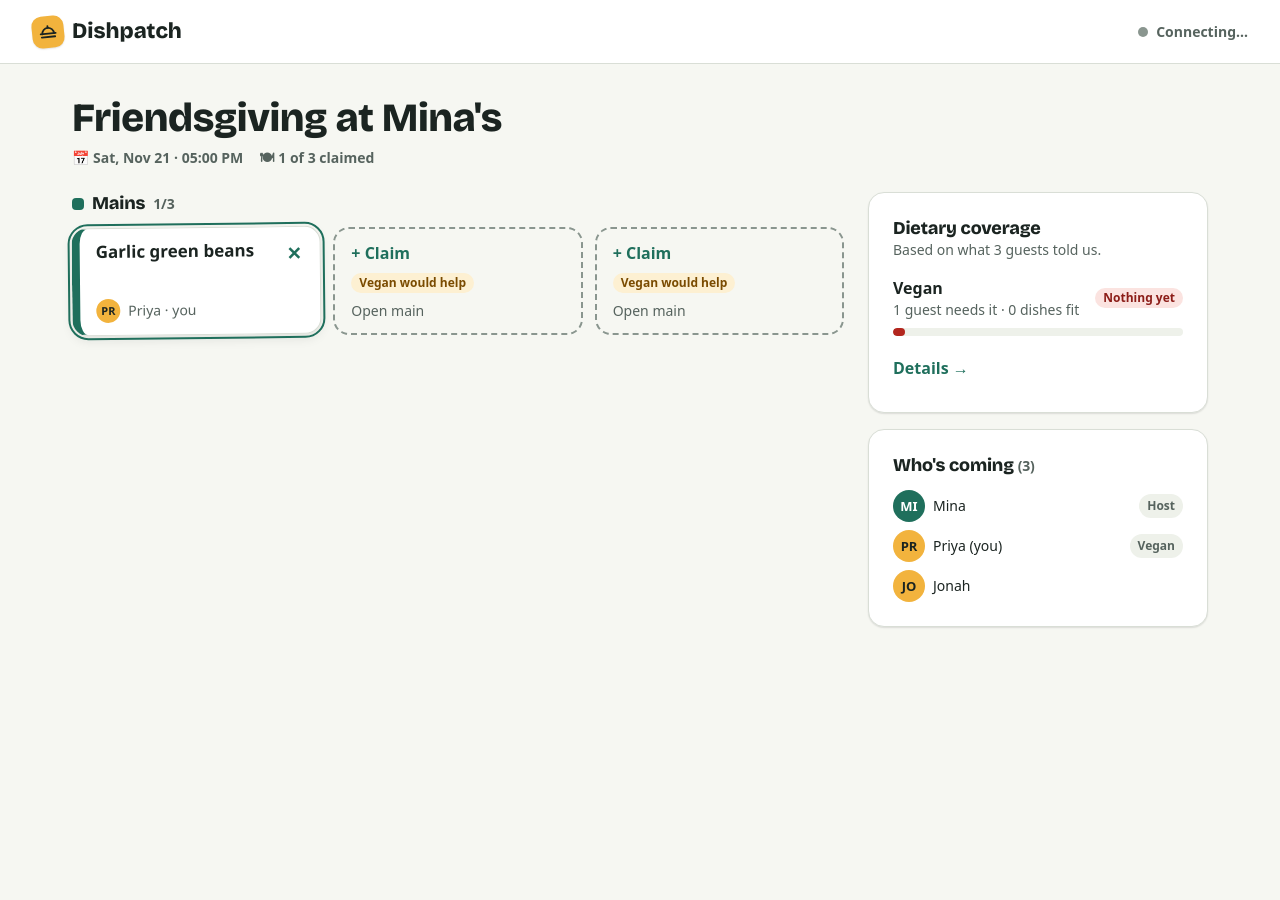
Test: release › asks before releasing, then opens the slot
What coordinates should you click on to do the following:
click the button named "Release your Mains slot"
I would click on:
 (294, 253)
Its box is x1=274 y1=233 x2=314 y2=274.
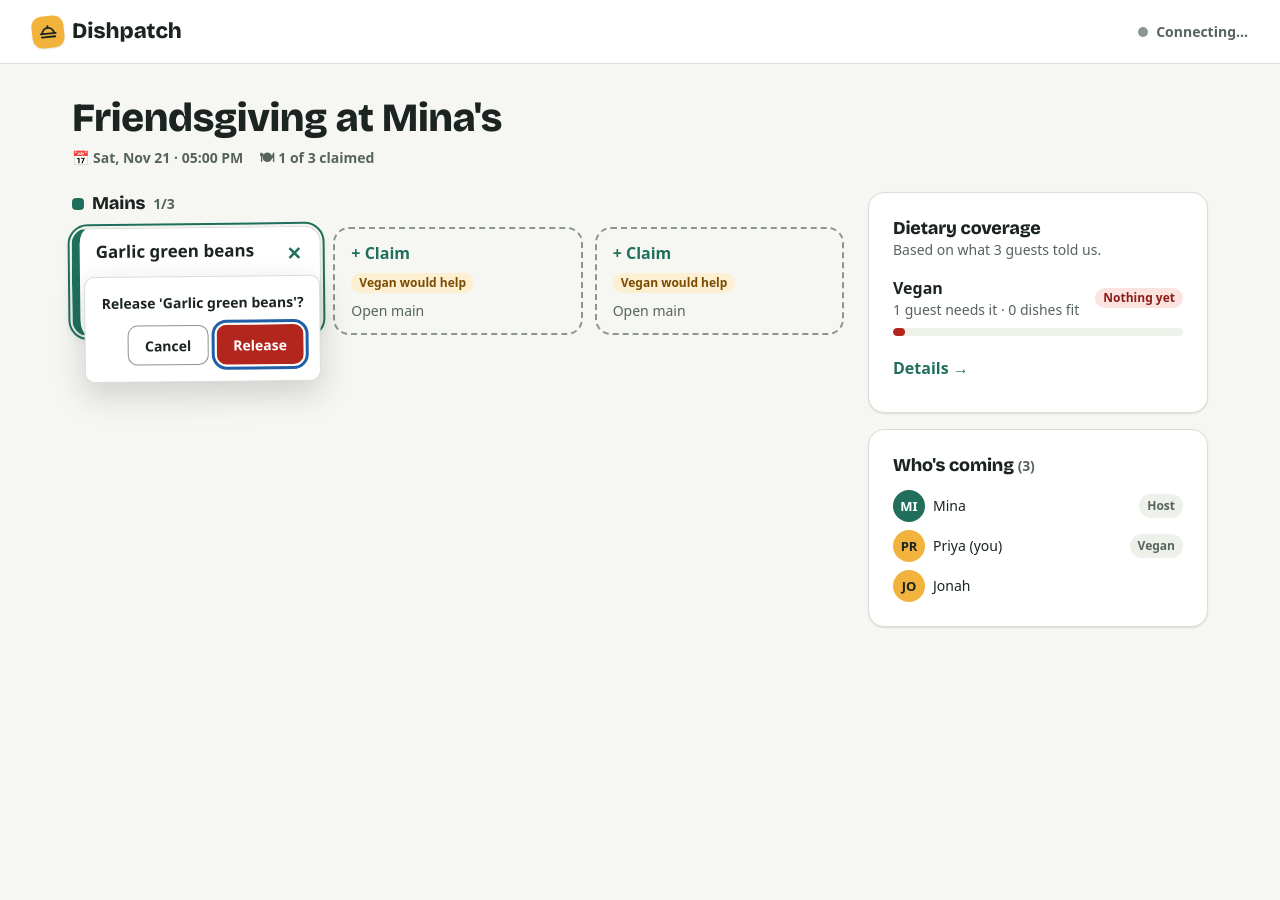
What coordinates should you click on to do the following:
click the button "Release"
I would click on:
 (260, 345)
Its box is x1=216 y1=324 x2=304 y2=365.
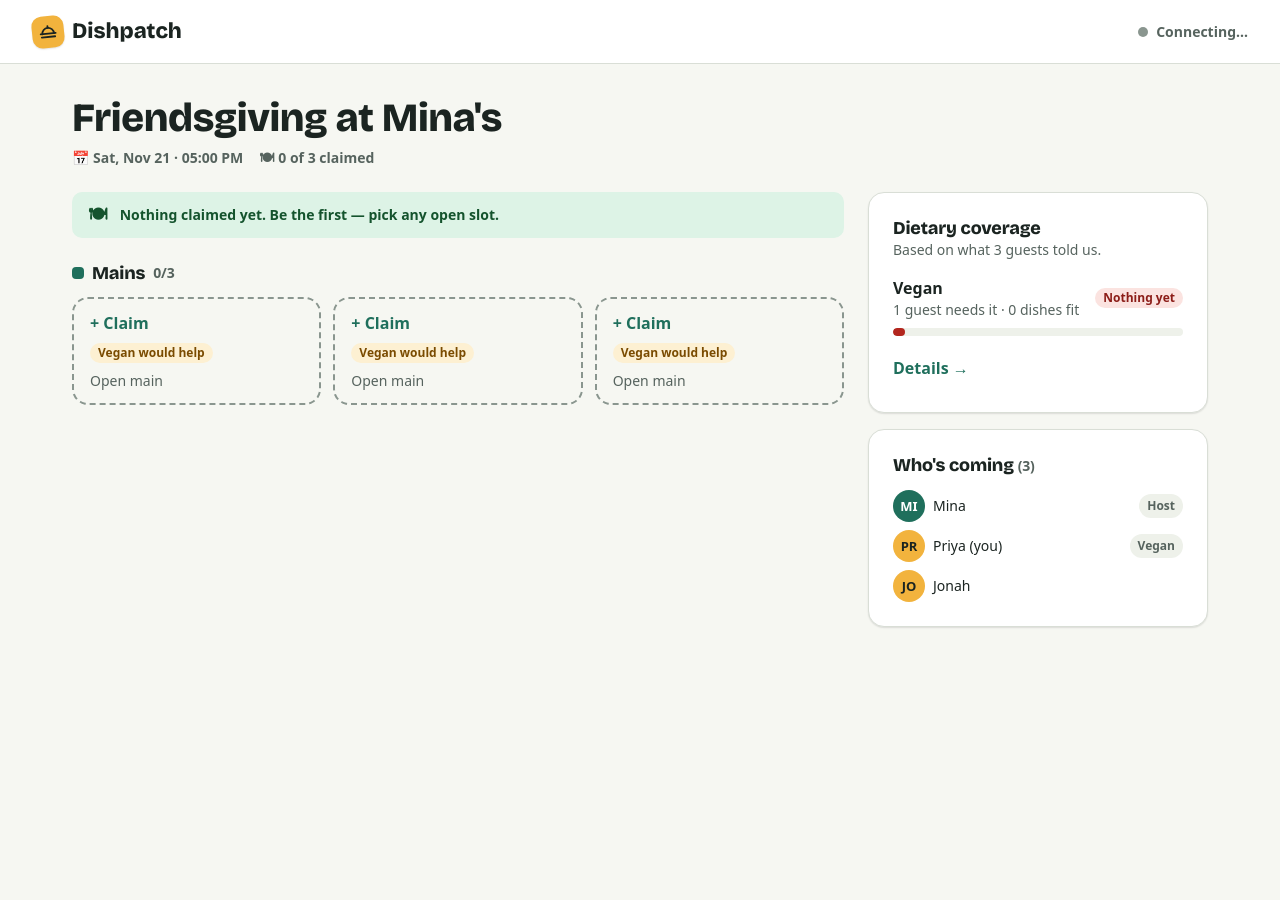
Expected: the button with aria-label "Claim open Mains slot 1" is shown, x1=72 y1=297 x2=321 y2=405
